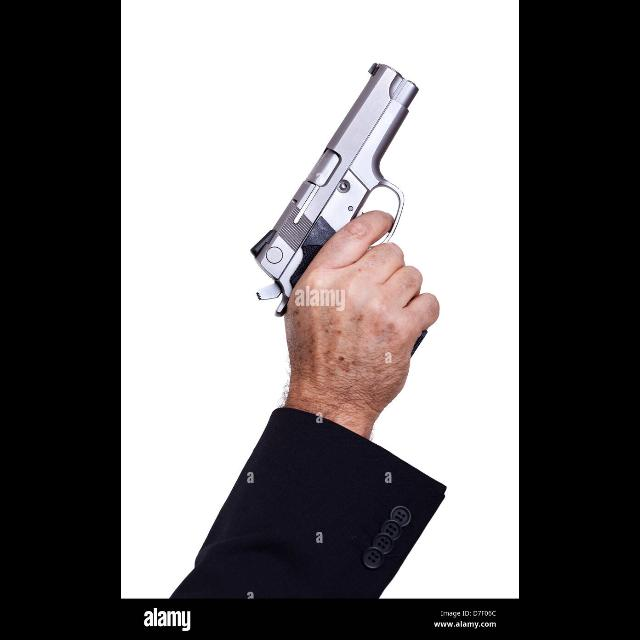handgun: (242, 50, 426, 322)
